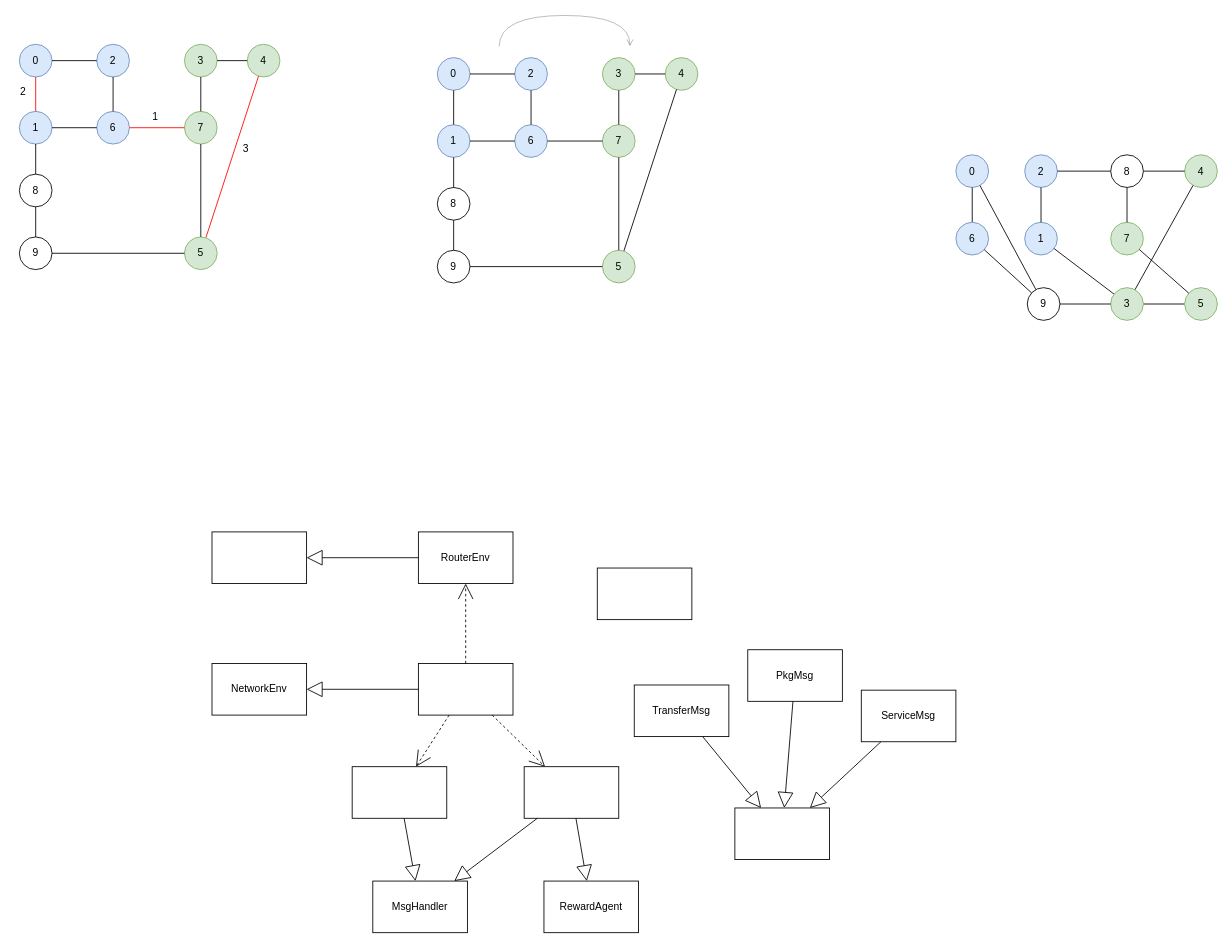
This 1232x948 diagram has some shape labels left out. Each missing label, with the centre of its shape:
"ComputerNetEnv" goes at pixel 465 689.
"DelivPeriods" goes at pixel 644 593.
"LinkStateRouter" goes at pixel 399 792.
"Message" goes at pixel 781 833.
"NodeEnv" goes at pixel 259 557.
"QRouter" goes at pixel 571 792.
